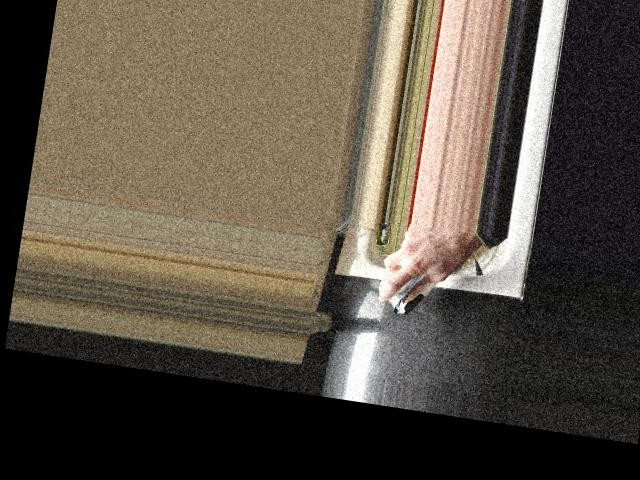cheese: (379, 225, 458, 324)
